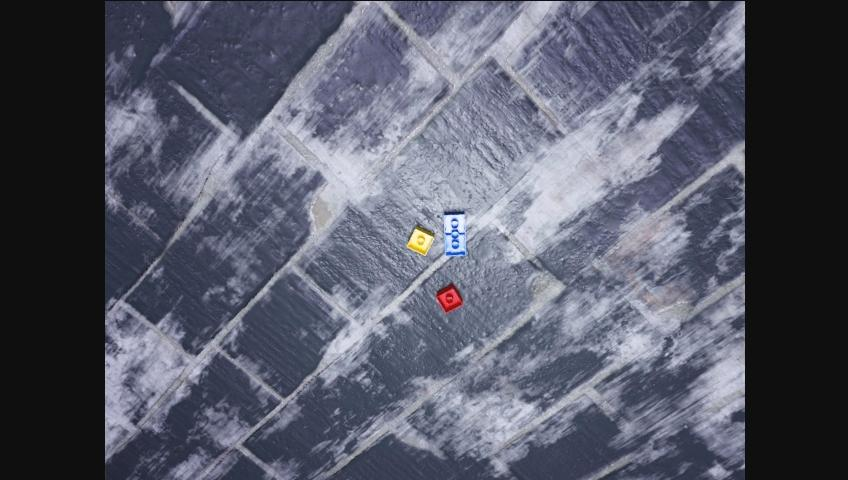2x2_red: (436, 284, 462, 313)
2x2_yellow: (407, 226, 434, 256)
4x2_blue: (444, 212, 465, 256)
